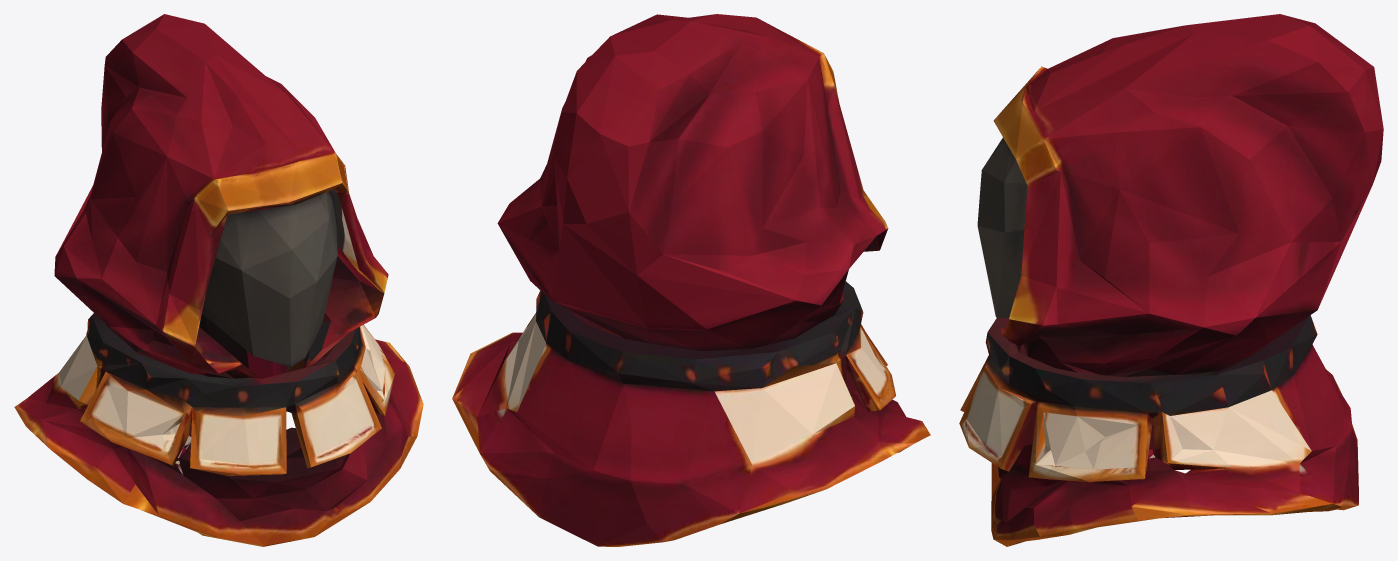
Rendered from dsa_herbalist_helm_lo.glb.
The picture shows the model from 3 angles, left to right: view 1: azimuth 30°, elevation 25°; view 2: azimuth 150°, elevation 25°; view 3: azimuth 270°, elevation 25°; orthographic projection. The views are drawn at different scales.
Parts seen in each view (by area): view 1: tmp1j8thygs.ply; view 2: tmp1j8thygs.ply; view 3: tmp1j8thygs.ply.
Boxes of the visible parts, x1,y1,x2,y2 form: tmp1j8thygs.ply: [14, 14, 423, 546]; tmp1j8thygs.ply: [452, 14, 930, 546]; tmp1j8thygs.ply: [959, 14, 1383, 546].
Bounding box in the file's own units: 1.74 × 1.99 × 1.52.
Materials: 1 (1 with a texture image).
